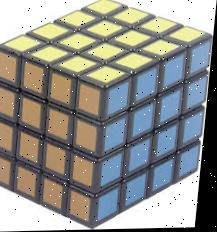cube: (0, 0, 215, 232)
